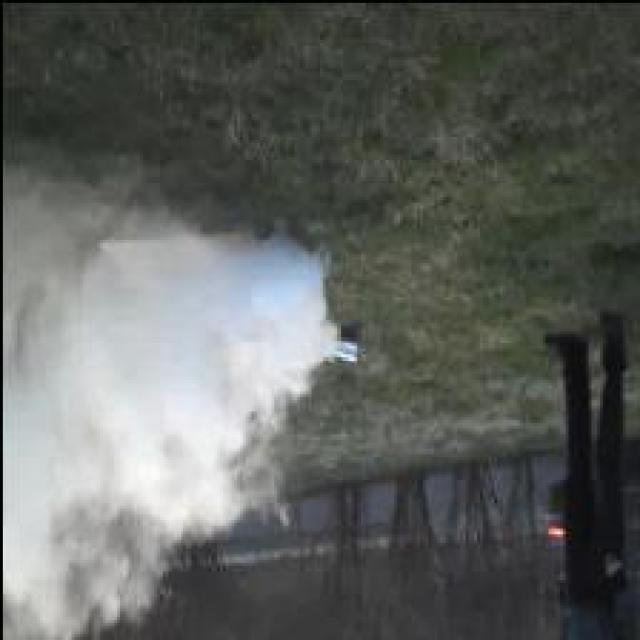Smoke: (3, 153, 337, 640)
